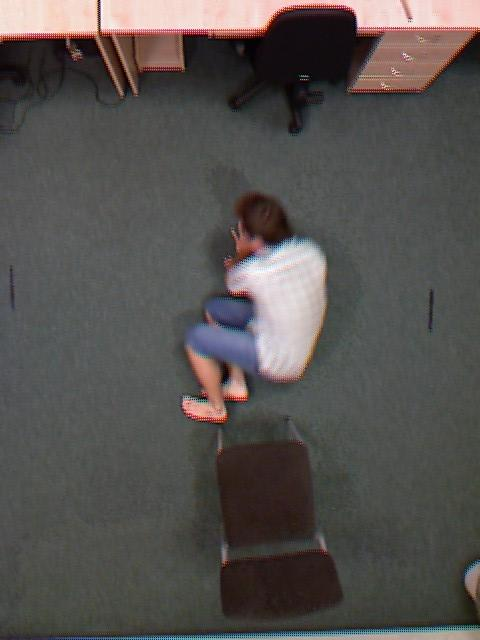fall: (167, 205, 346, 410)
